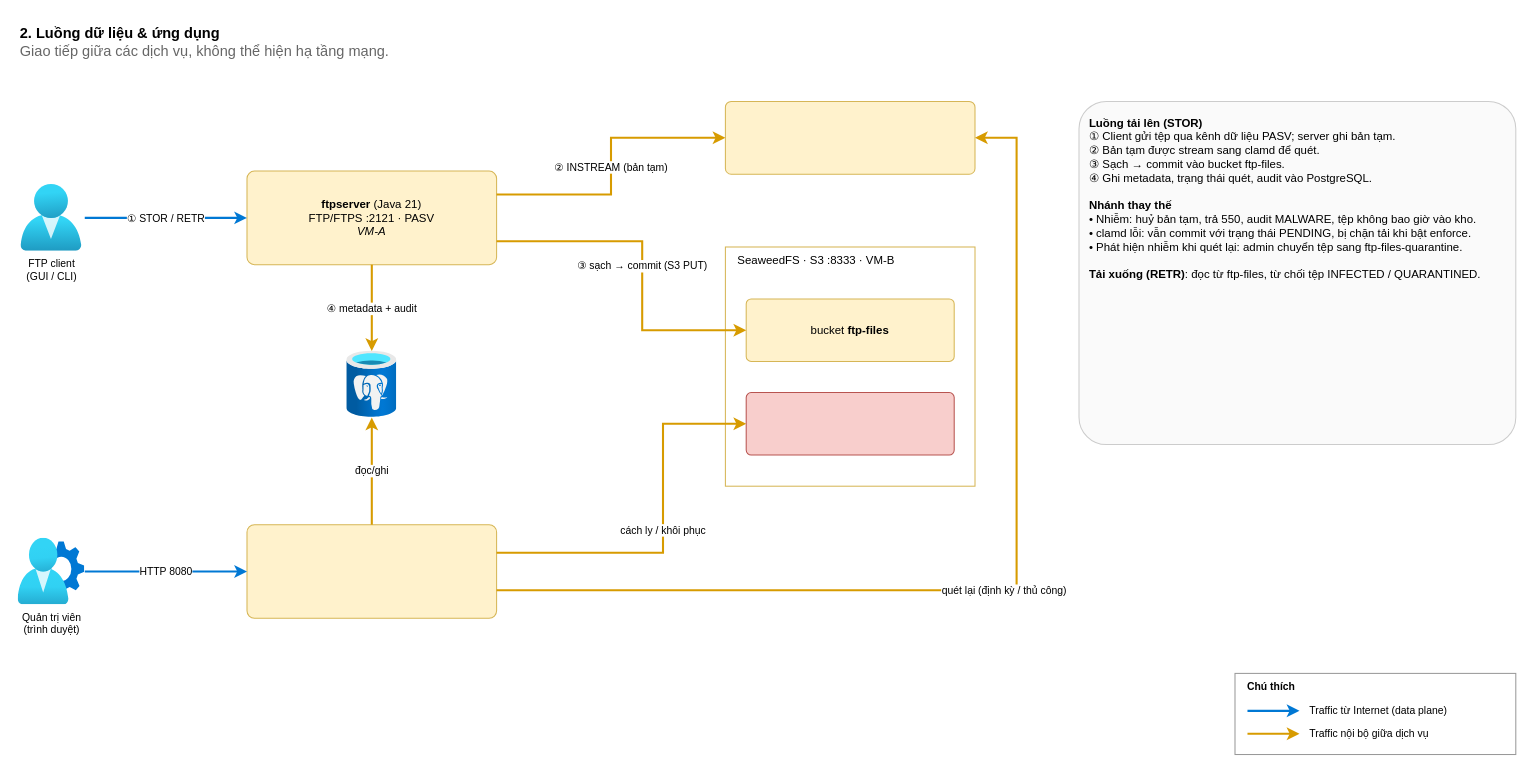
Some shapes in this 1534 by 773 pixel diagram are drawn without their labels. Each missing label, with the centre of its shape:
bucket ftp-files-quarantine: point (849, 423)
clamd (ClamAV) :3310 VM-B: point (849, 137)
ftpadmin (FastAPI) :8080 VM-A: point (371, 571)
PostgreSQL :5432 users, roles, ACL, metadata tệp, audit: point (371, 383)
